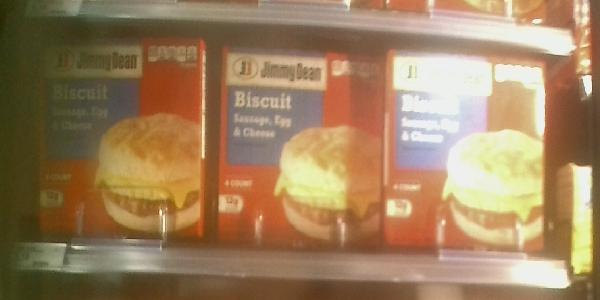icecream: (25, 34, 202, 239), (387, 49, 553, 252), (223, 46, 379, 251)
